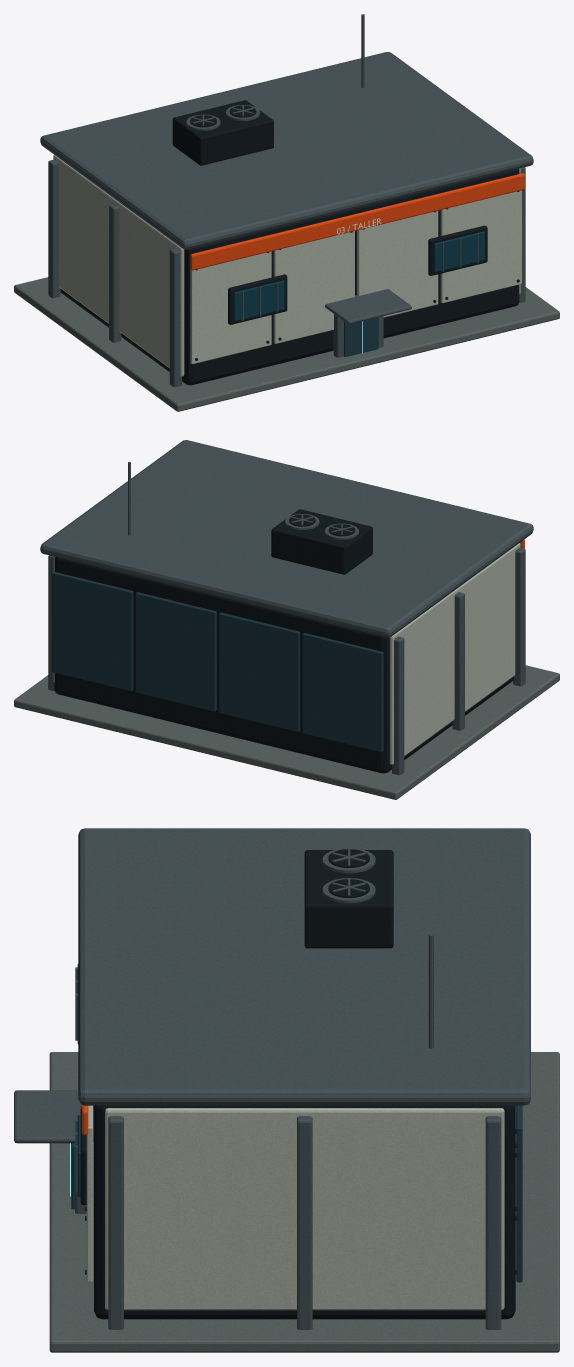
File: Taller.gltf
3 renders of one model, top to bottom at view 1: azimuth 30°, elevation 25°; view 2: azimuth 150°, elevation 25°; view 3: azimuth 270°, elevation 25°, orthographic. The views are drawn at different scales.
Visible parts, largest first — view 1: Taller_Metal_gris, Taller_Panel_marfil, Taller_Acero_oscuro, Taller_Hormigon, Taller_Naranja, Taller_Vidrio, Taller_Panel_azul; view 2: Taller_Metal_gris, Taller_Panel_azul, Taller_Acero_oscuro, Taller_Hormigon, Taller_Panel_marfil; view 3: Taller_Metal_gris, Taller_Panel_marfil, Taller_Hormigon, Taller_Acero_oscuro, Taller_Panel_azul.
Part boxes in pixels (<box>): Taller_Metal_gris: <box>40,14,533,386</box>; Taller_Panel_marfil: <box>53,155,521,376</box>; Taller_Acero_oscuro: <box>60,100,519,385</box>; Taller_Hormigon: <box>14,277,559,411</box>; Taller_Naranja: <box>190,173,524,270</box>; Taller_Vidrio: <box>234,231,484,321</box>; Taller_Panel_azul: <box>344,317,378,356</box>; Taller_Metal_gris: <box>40,440,533,775</box>; Taller_Panel_azul: <box>52,572,383,752</box>; Taller_Acero_oscuro: <box>54,509,513,773</box>; Taller_Hormigon: <box>14,665,559,799</box>; Taller_Panel_marfil: <box>53,543,520,764</box>; Taller_Metal_gris: <box>14,828,530,1329</box>; Taller_Panel_marfil: <box>86,1105,504,1310</box>; Taller_Hormigon: <box>49,1052,559,1352</box>; Taller_Acero_oscuro: <box>80,849,516,1319</box>; Taller_Panel_azul: <box>71,1105,522,1282</box>.
Bounding box in the file's own units: 31 × 18 × 24.6.
Materials: 9 (9 with a texture image).
